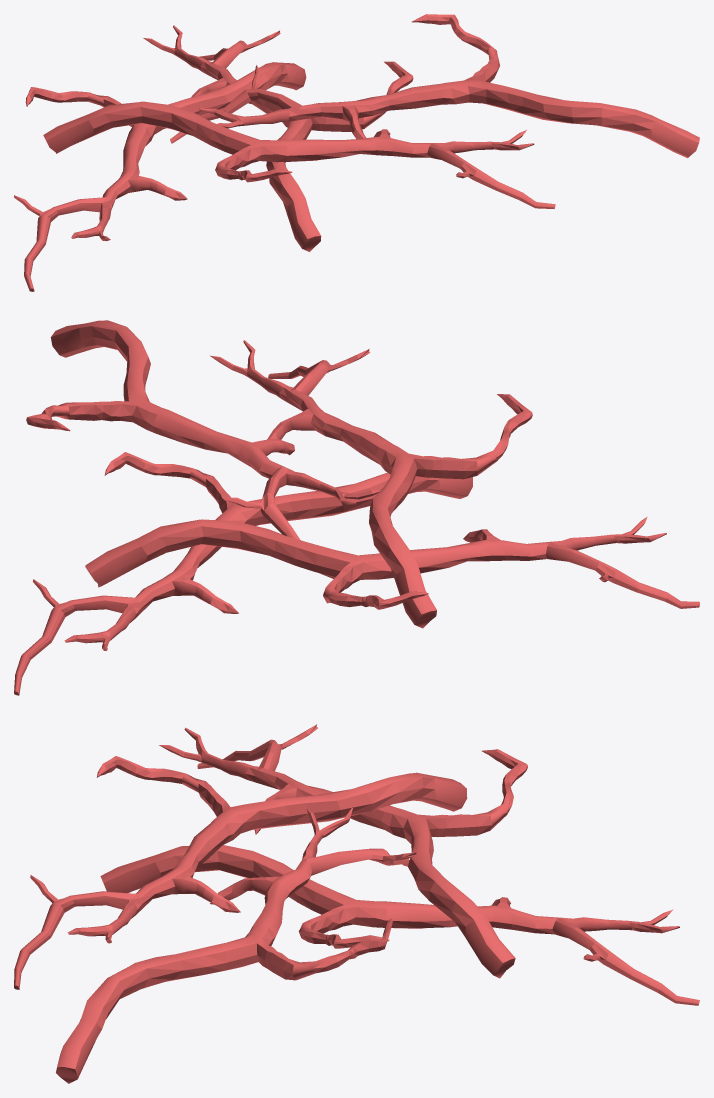
The model's file is Branchage.fbx.
3 renders of one model, top to bottom at view 1: azimuth 30°, elevation 25°; view 2: azimuth 150°, elevation 25°; view 3: azimuth 270°, elevation 25°, orthographic. The views are drawn at different scales.
Parts seen in each view (by area): view 1: Branche2; view 2: Branche2; view 3: Branche2.
Part boxes in pixels (x1,y1,x2,y2): Branche2: (14, 14, 699, 291); Branche2: (14, 320, 699, 695); Branche2: (14, 724, 699, 1083).
Bounding box in the file's own units: 67.98 × 12.54 × 55.5.
